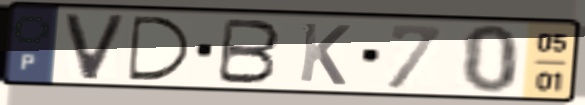0: (453, 22, 524, 96)
7: (387, 22, 447, 91)
B: (213, 16, 284, 87)
D: (126, 13, 196, 83)
K: (296, 20, 354, 88)
V: (61, 12, 130, 83)
